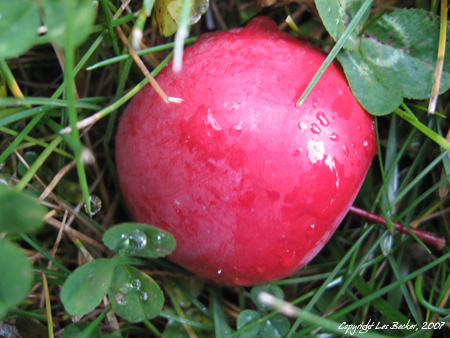apple: (104, 21, 375, 289)
